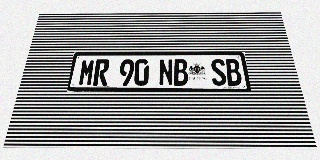0: (134, 59, 149, 86)
9: (119, 59, 135, 86)
B: (224, 59, 243, 86), (173, 59, 188, 86)
M: (78, 59, 96, 86)
N: (159, 59, 173, 86)
R: (93, 59, 110, 86)
S: (210, 59, 227, 86)
